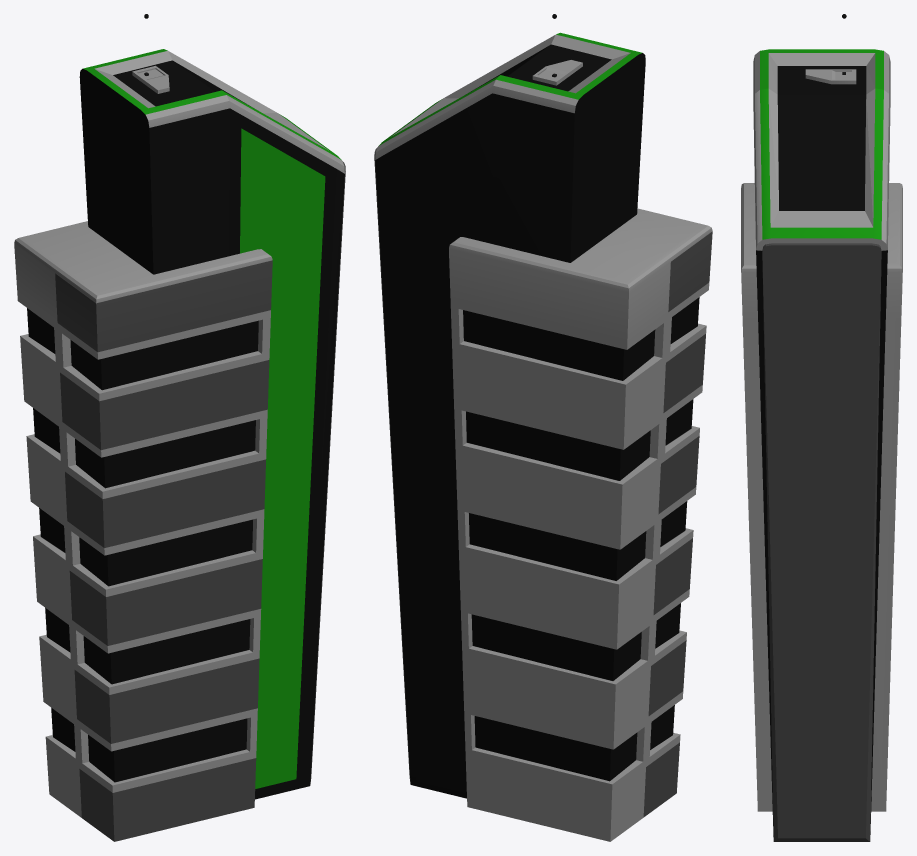
Rendered from Building_2.FBX.
3 views of the same model, side by side, from view 1: azimuth 30°, elevation 25°; view 2: azimuth 150°, elevation 25°; view 3: azimuth 270°, elevation 25° (orthographic). The views are drawn at different scales.
Parts seen in each view (by area): view 1: Box042, Box041, Box044; view 2: Box042, Box041, Box044; view 3: Box041, Box042, Box044.
Boxes of the visible parts, x1,y1,x2,y2 form: Box042: [14, 221, 272, 841]; Box041: [79, 49, 345, 799]; Box044: [132, 65, 169, 93]; Box042: [449, 208, 712, 841]; Box041: [374, 32, 645, 798]; Box044: [532, 60, 582, 85]; Box041: [753, 49, 890, 841]; Box042: [741, 183, 902, 811]; Box044: [805, 69, 856, 84].
Size of the model in its own units: 63.15 by 34.38 by 180.
